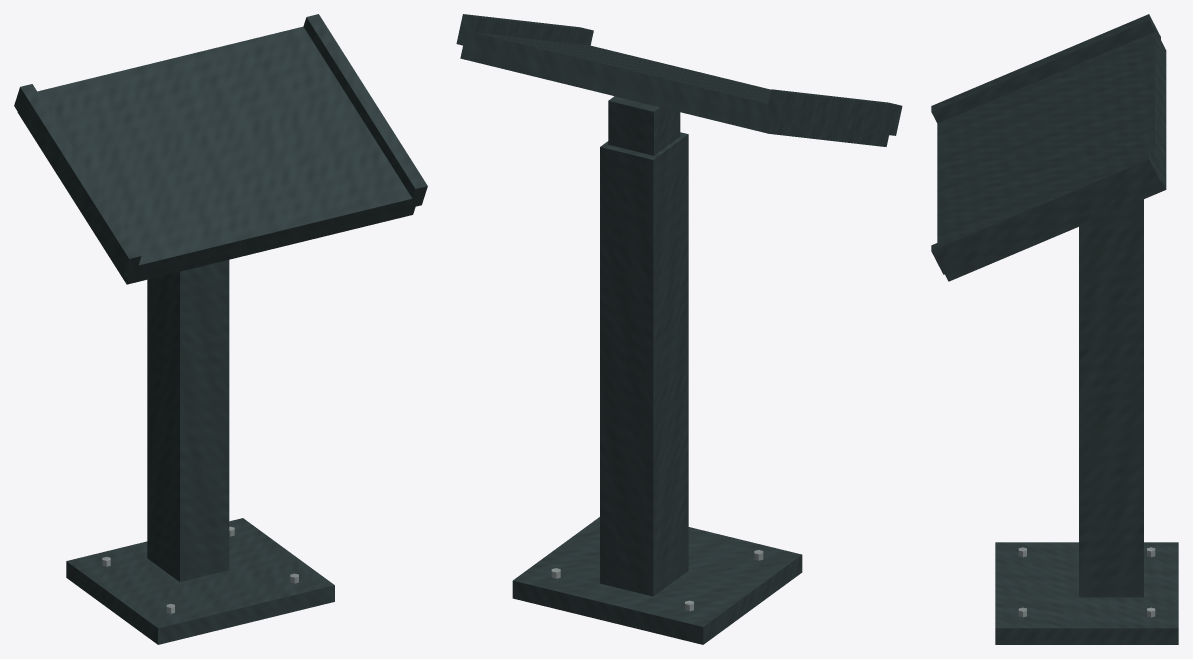
3 views of the same model, side by side, from view 1: azimuth 30°, elevation 25°; view 2: azimuth 150°, elevation 25°; view 3: azimuth 270°, elevation 25° (orthographic). The views are drawn at different scales.
Parts seen in each view (by area): view 1: B021-07_tray_iron, B021-07_frame_iron, B021-07_base_iron; view 2: B021-07_frame_iron, B021-07_base_iron, B021-07_tray_iron; view 3: B021-07_frame_iron, B021-07_tray_iron, B021-07_base_iron.
Part boxes in pixels (bbox=[...]): B021-07_tray_iron: bbox=[17, 26, 415, 284]; B021-07_frame_iron: bbox=[14, 14, 427, 581]; B021-07_base_iron: bbox=[66, 518, 334, 644]; B021-07_frame_iron: bbox=[456, 14, 902, 596]; B021-07_base_iron: bbox=[512, 517, 802, 644]; B021-07_tray_iron: bbox=[460, 31, 888, 146]; B021-07_frame_iron: bbox=[931, 14, 1160, 597]; B021-07_tray_iron: bbox=[937, 29, 1166, 281]; B021-07_base_iron: bbox=[995, 542, 1178, 644].
Bounding box in the file's own units: 0.845 × 1.4 × 0.6072.
3 materials, 3 textured.
